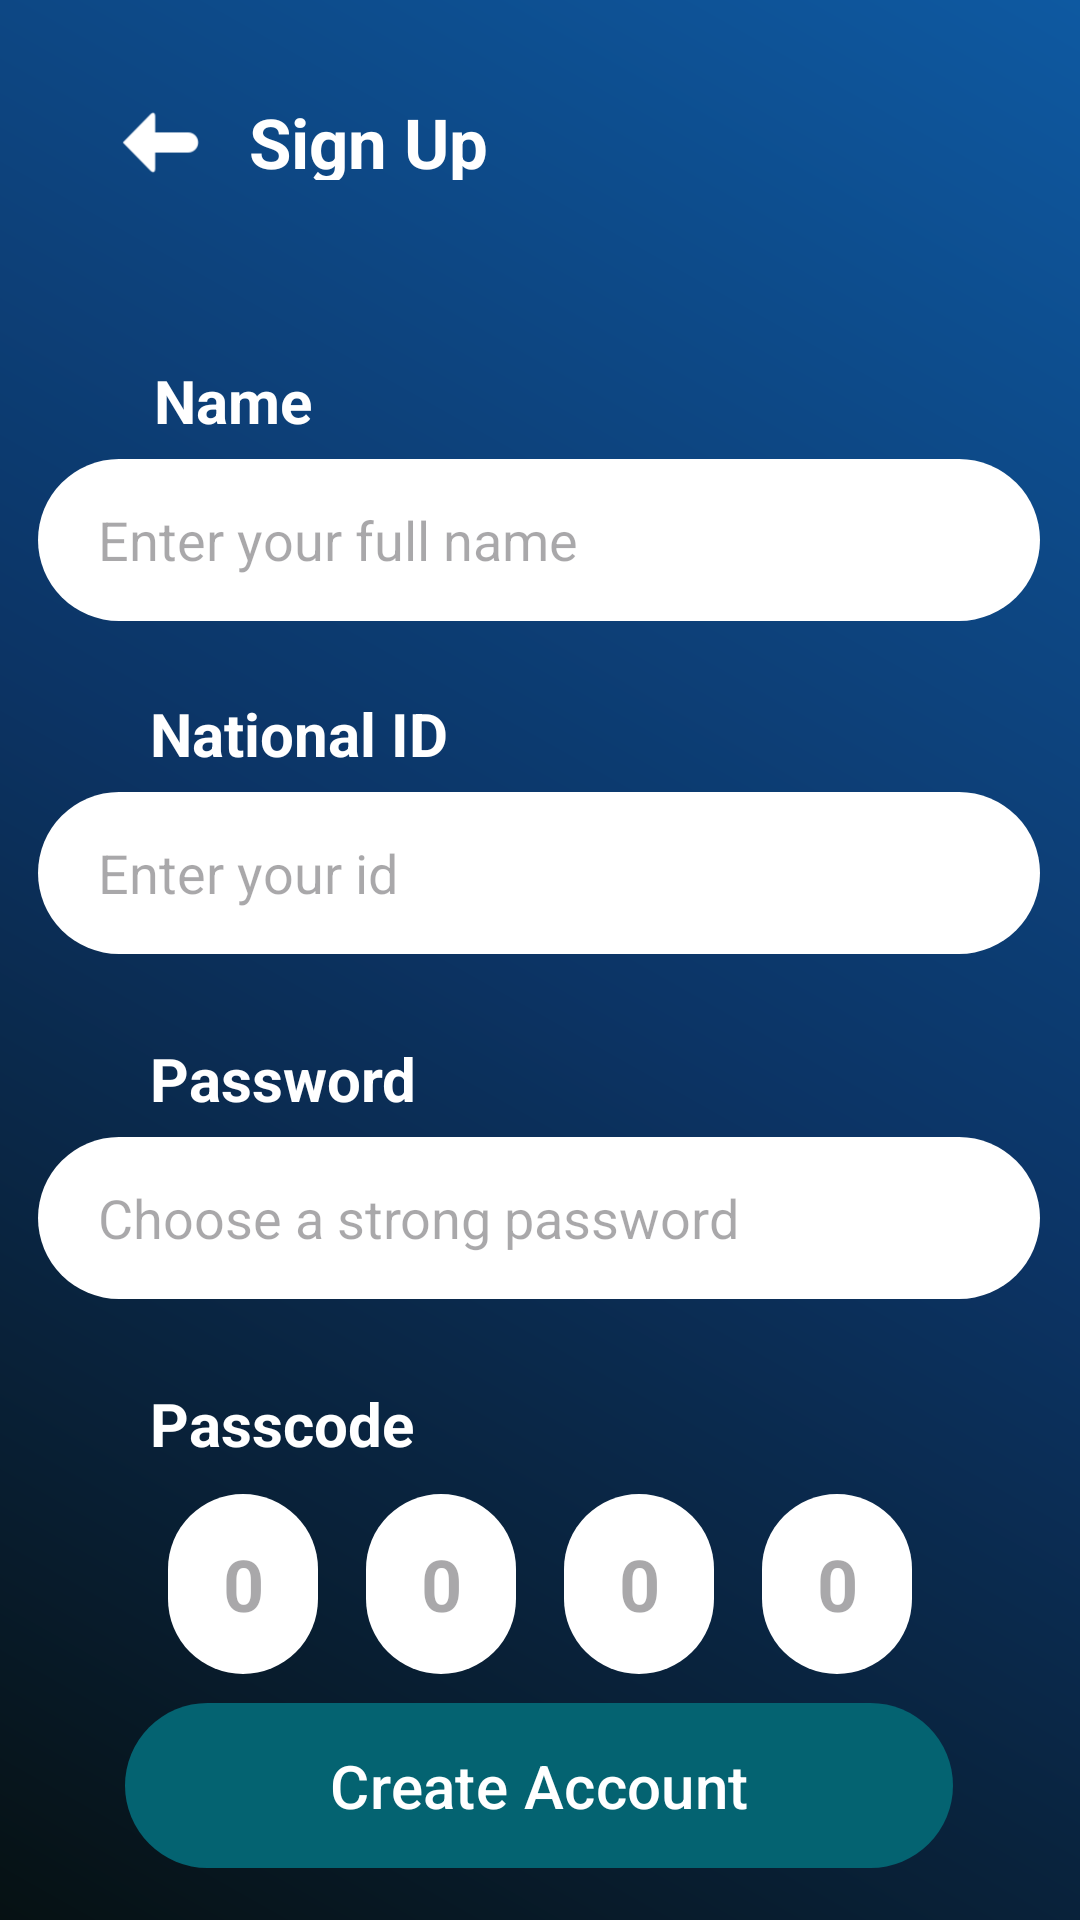

Named icons in this screenshot (1080×1920) and their bounding boxes, (x1,y1,x2,y2):
arrow: (123,112,199,173)
